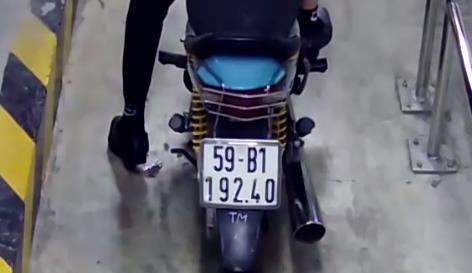lisence: (198, 138, 285, 209)
